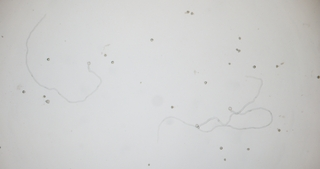germinated: (194, 122, 204, 133), (227, 106, 238, 115), (85, 59, 93, 71), (100, 51, 110, 57)
nongerminated: (44, 99, 54, 108), (43, 56, 53, 64), (167, 103, 176, 111), (237, 33, 245, 41), (189, 9, 197, 17), (217, 144, 225, 152), (226, 60, 234, 67), (202, 80, 210, 87), (273, 62, 280, 70), (109, 58, 116, 66), (19, 88, 27, 95), (275, 127, 283, 134), (245, 146, 253, 153), (221, 156, 229, 163), (251, 63, 258, 70), (148, 37, 155, 43), (41, 93, 47, 100), (185, 9, 190, 15)
